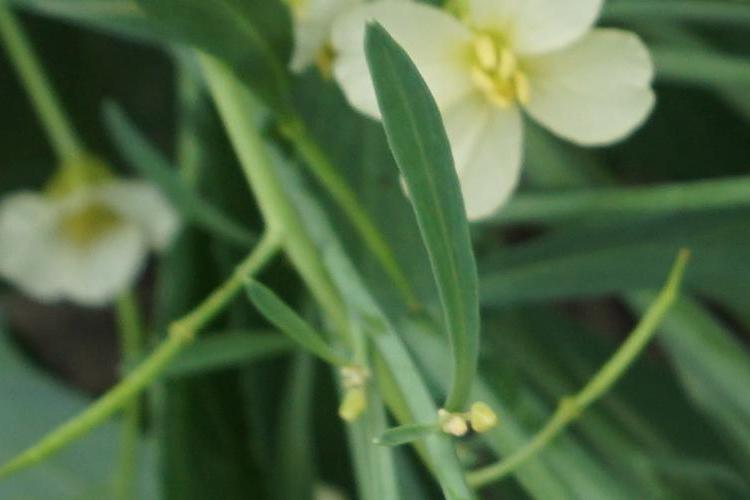white: (327, 2, 656, 197), (2, 153, 167, 309)
